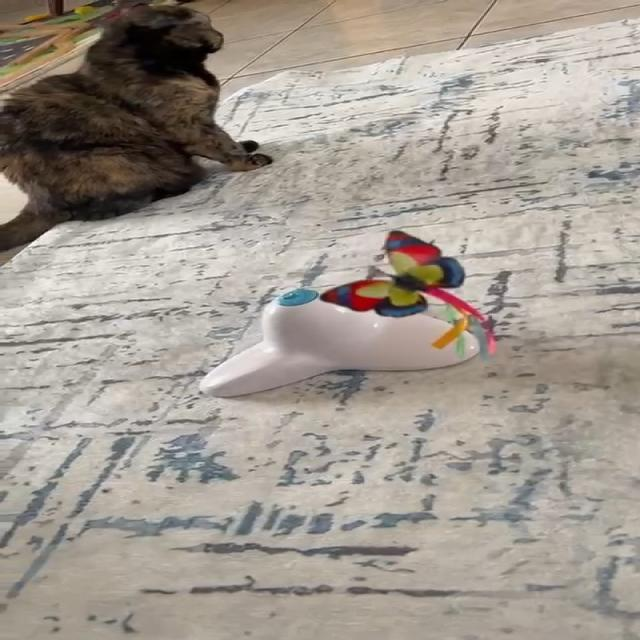authorized: (0, 1, 273, 253)
